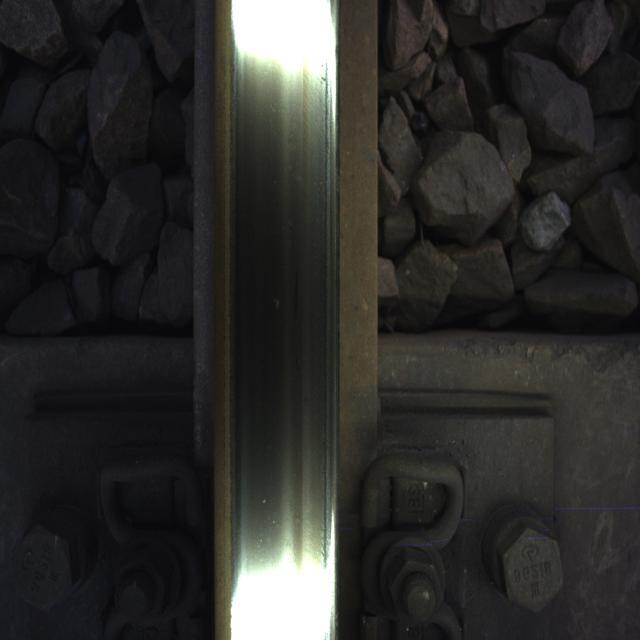break: (239, 34, 321, 588)
